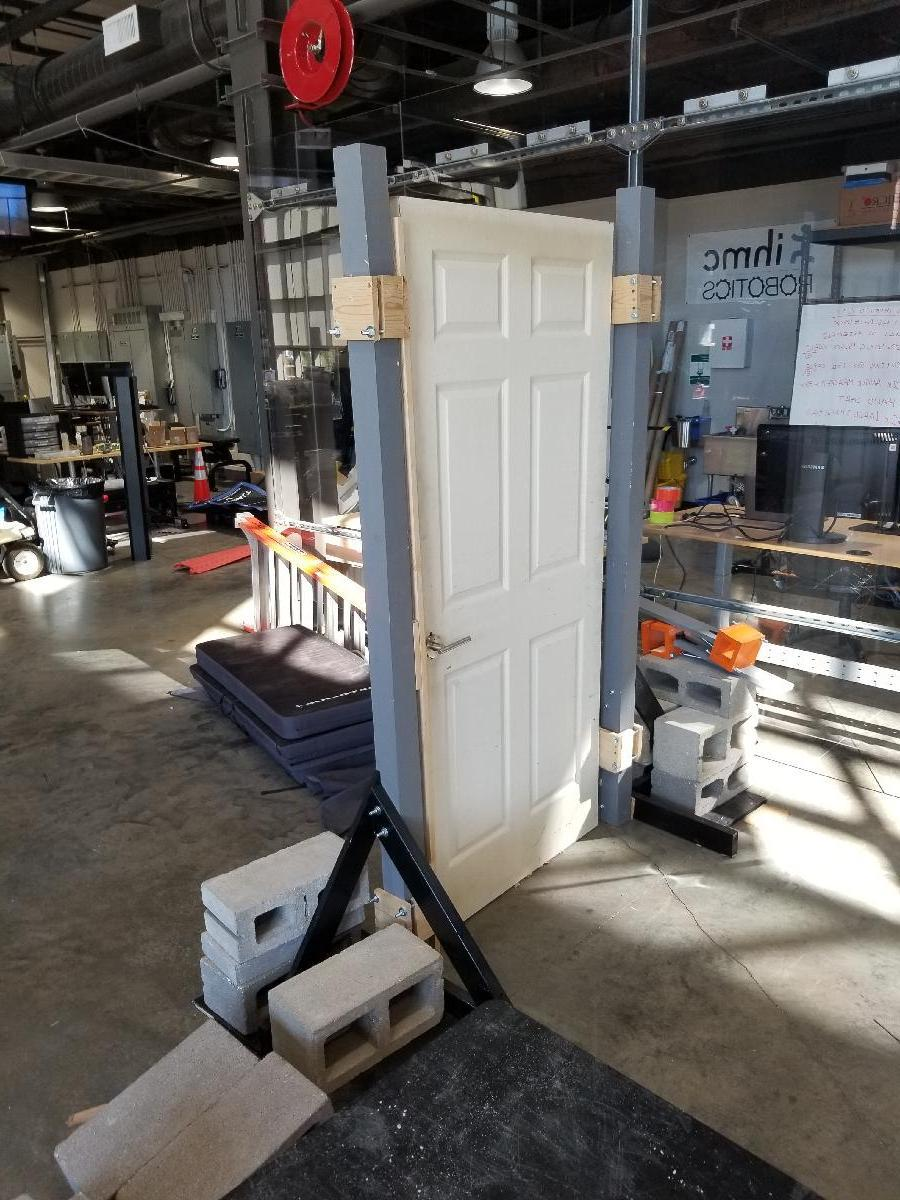door: (400, 213, 624, 931)
handle: (420, 623, 475, 669)
